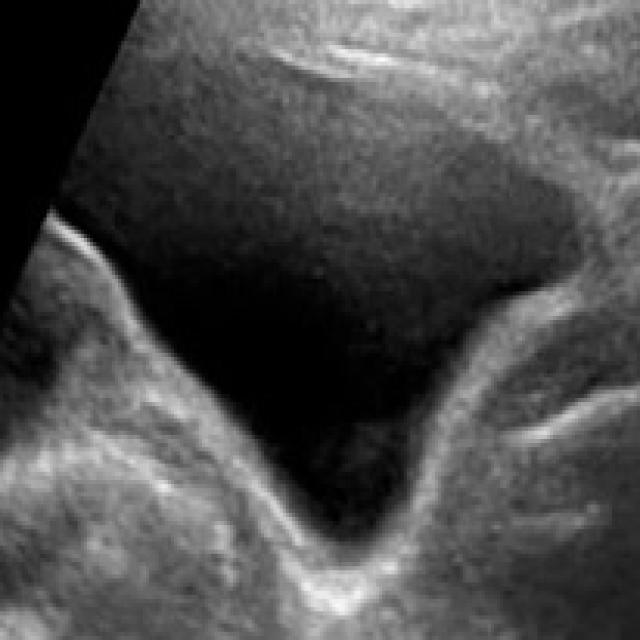bladder: (34, 5, 610, 592)
